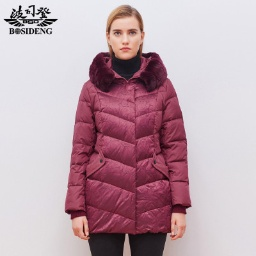face: (99, 3, 151, 70)
